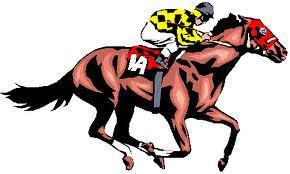horse: (3, 10, 286, 172)
person: (135, 1, 217, 66)
